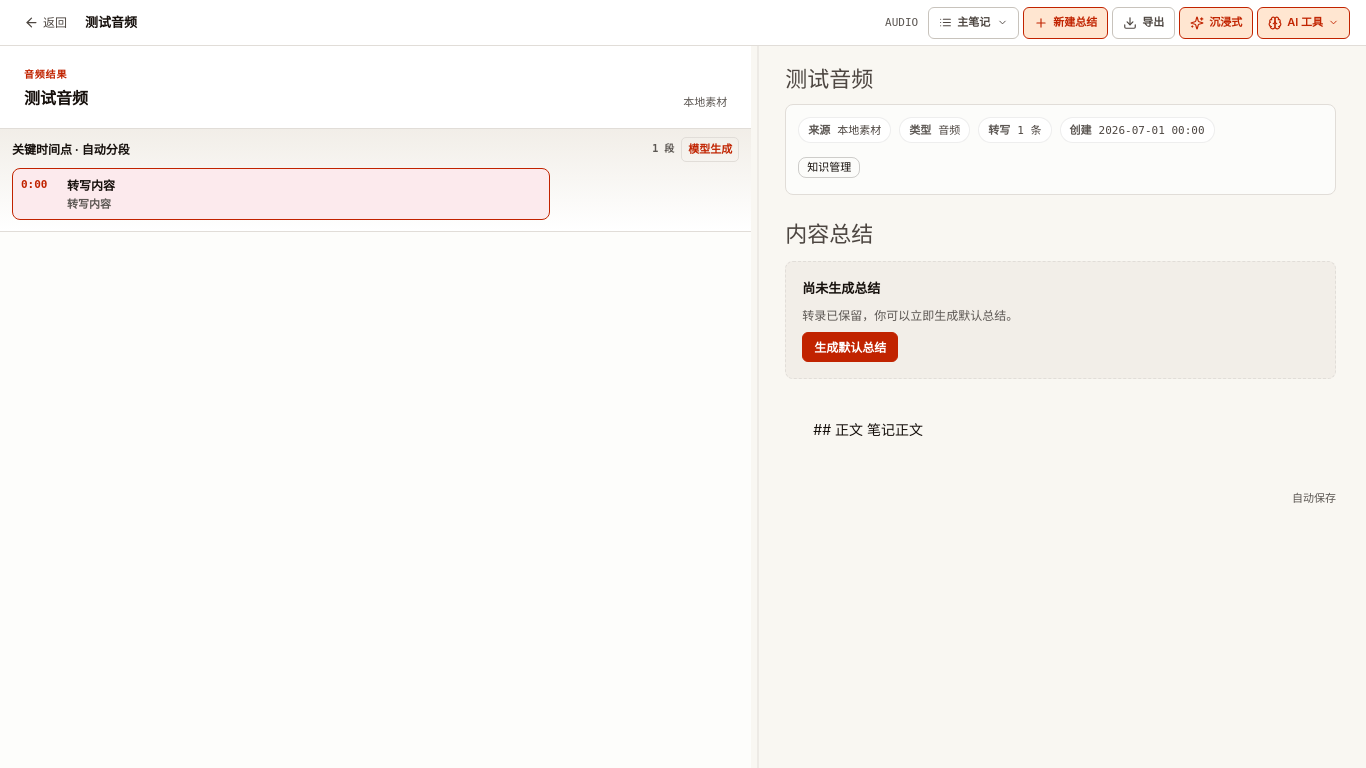
Scenario: NoteShell 菜单交互（阶段 A1） › 打开导出面板会关闭 AI 菜单
# 先打开 AI 菜单
Click the button "AI 工具".
click(1304, 22)  # box [1257, 6, 1350, 38]
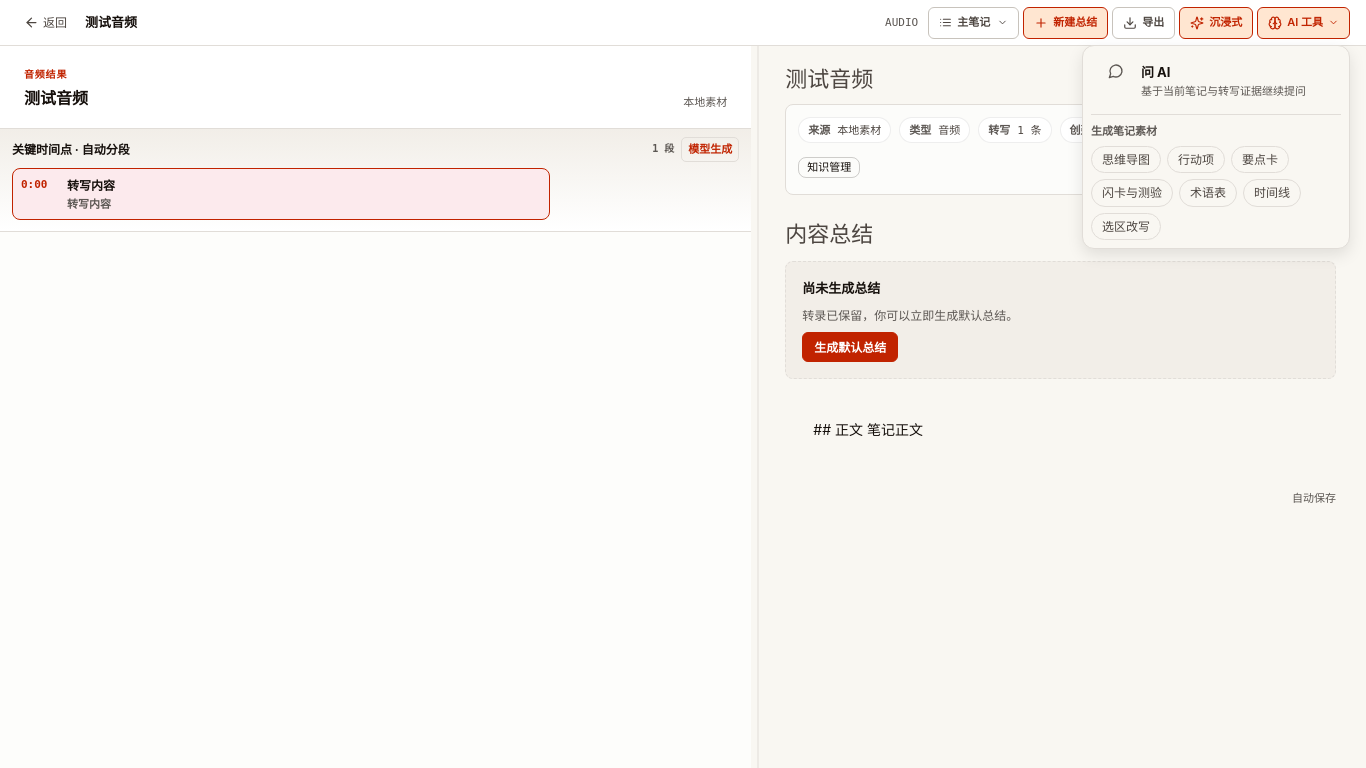
Expected: the text "问 AI" is shown, [1141, 64, 1170, 80]
# 打开导出面板 → AI 菜单关闭
Click the button "导出".
click(1144, 22)  # box [1112, 6, 1175, 38]
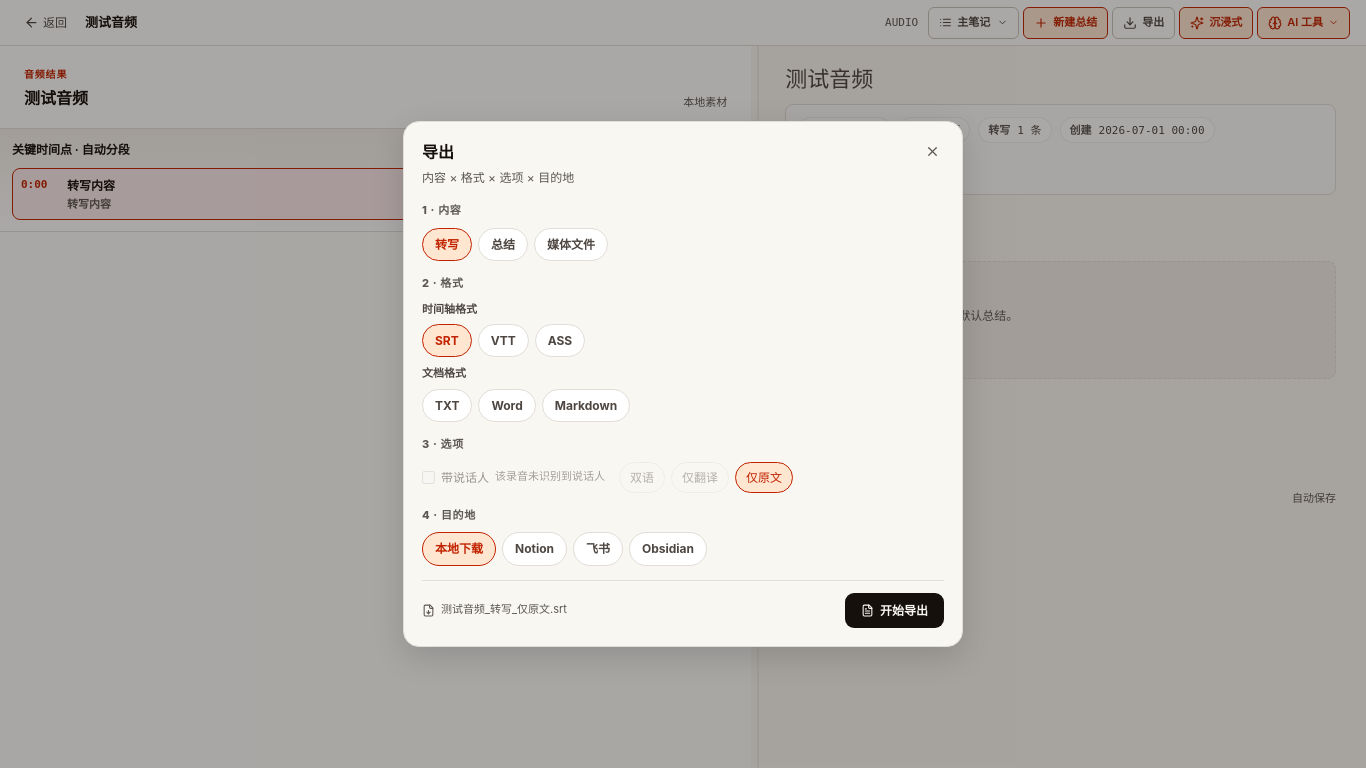
Expected: the button "问 AI" is gone
Expected: the dialog "导出" is shown, [403, 121, 963, 647]
